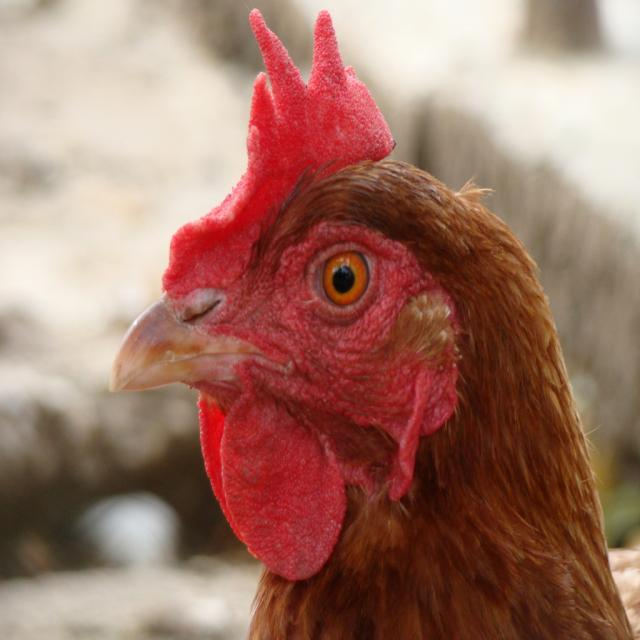Chicken: (103, 40, 640, 640)
